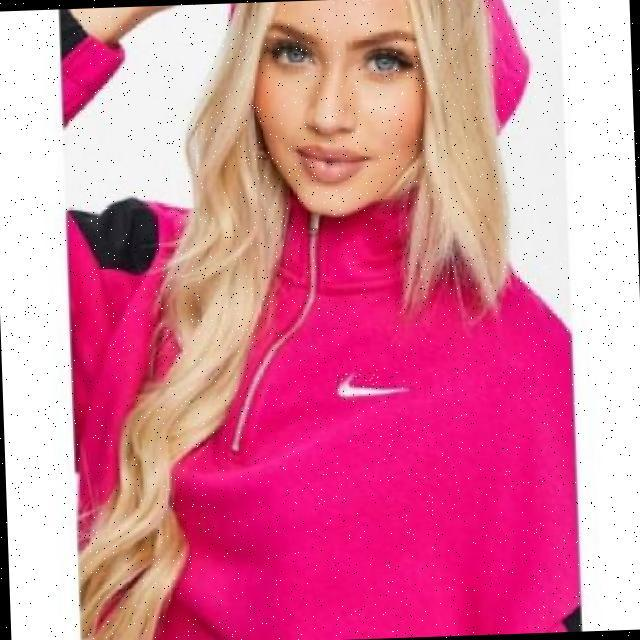Nike: (334, 368, 408, 396)
